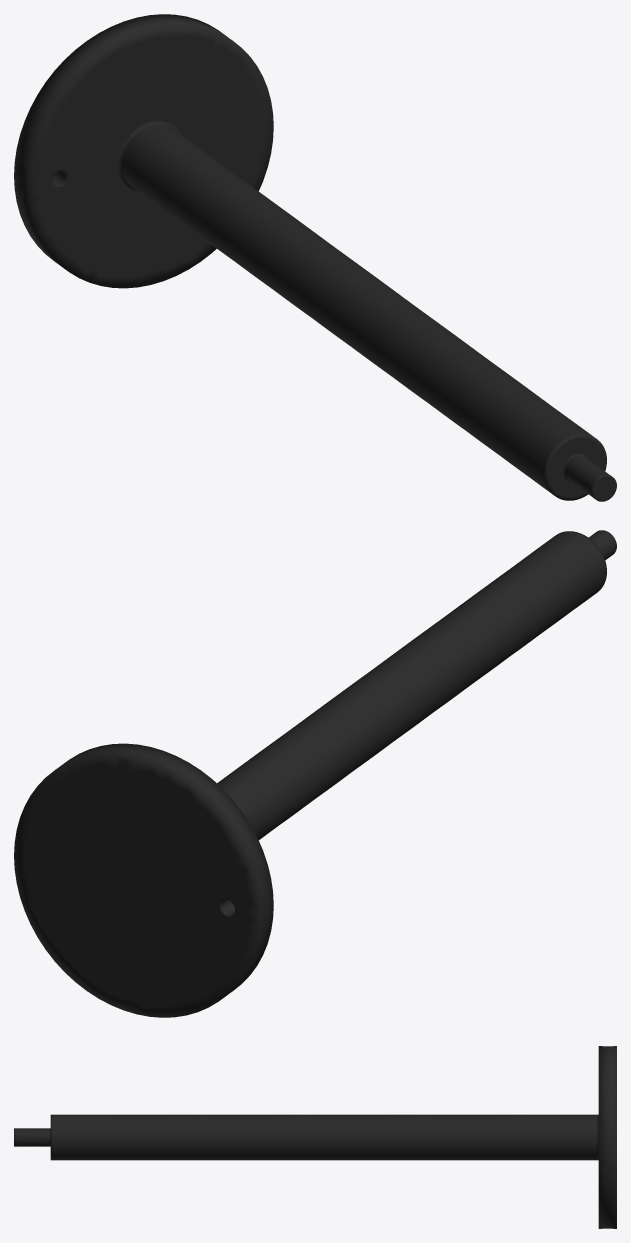
The model's file is supportor.obj.
3 views of the same model, one above another, from view 1: azimuth 30°, elevation 25°; view 2: azimuth 150°, elevation 25°; view 3: azimuth 270°, elevation 25° (orthographic). The views are drawn at different scales.
Size of the model in its own units: 0.1 by 0.1 by 0.33.
